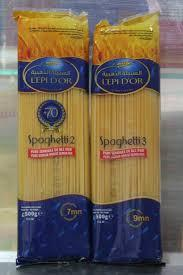Spaghetti: (18, 13, 86, 260), (93, 19, 158, 261)
